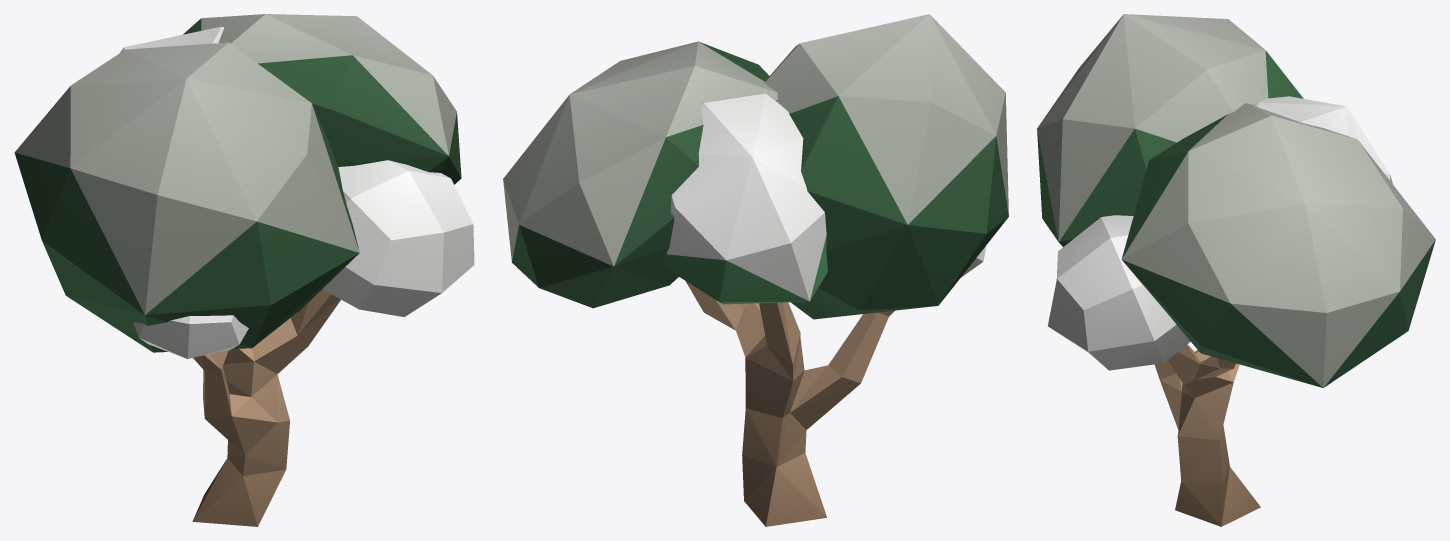
The model's file is SnowTree1.fbx.
3 views of the same model, side by side, from view 1: azimuth 30°, elevation 25°; view 2: azimuth 150°, elevation 25°; view 3: azimuth 270°, elevation 25° (orthographic). The views are drawn at different scales.
Parts seen in each view (by area): view 1: SnowTree1; view 2: SnowTree1; view 3: SnowTree1.
Part boxes in pixels (x1,y1,x2,y2): SnowTree1: [14, 14, 474, 526]; SnowTree1: [503, 14, 1008, 526]; SnowTree1: [1037, 14, 1435, 526].
Size of the model in its own units: 484 by 530 by 424.
